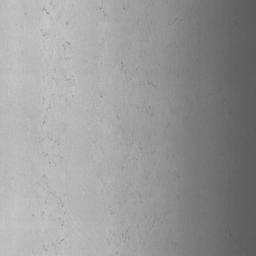Silk spot: (42, 174, 64, 208), (107, 229, 130, 244), (120, 60, 137, 80), (43, 238, 64, 254)
